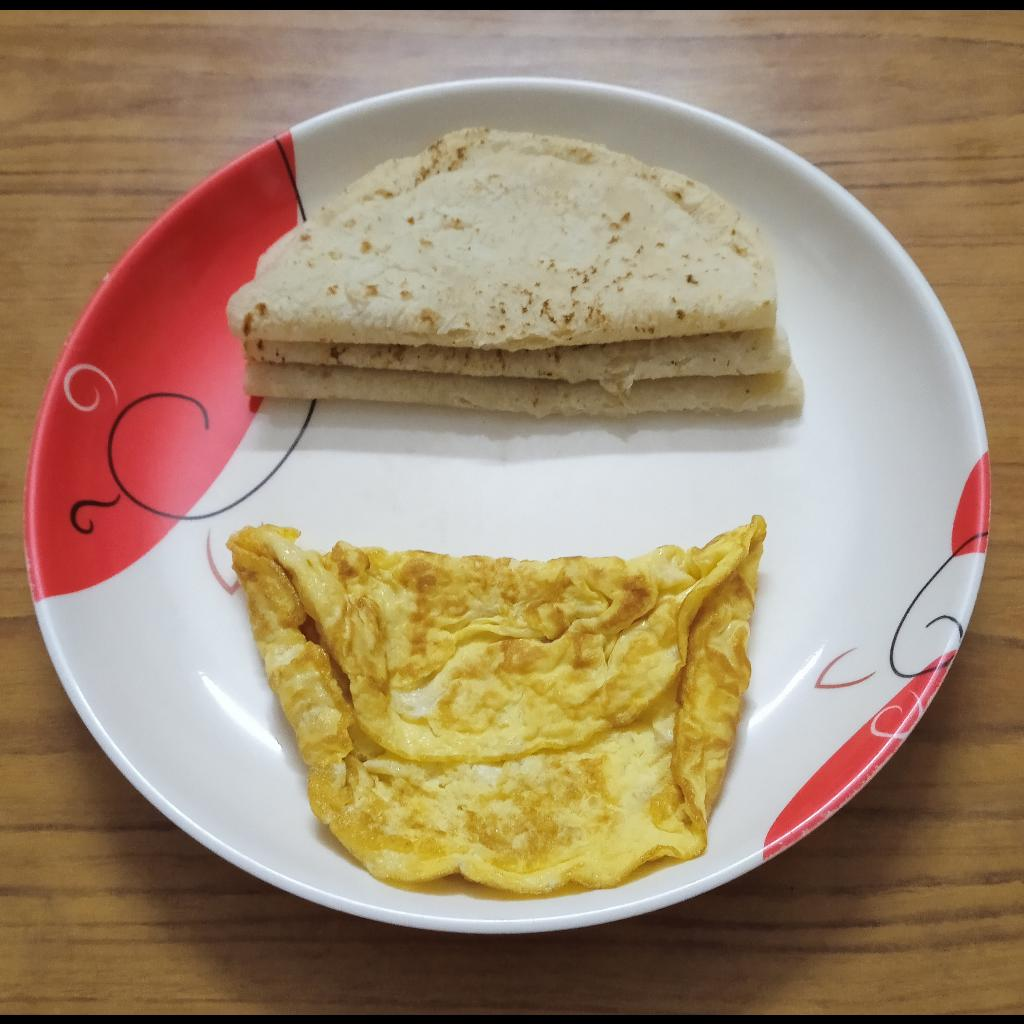egg-poached: (228, 515, 762, 894)
ruti: (228, 125, 811, 416)
